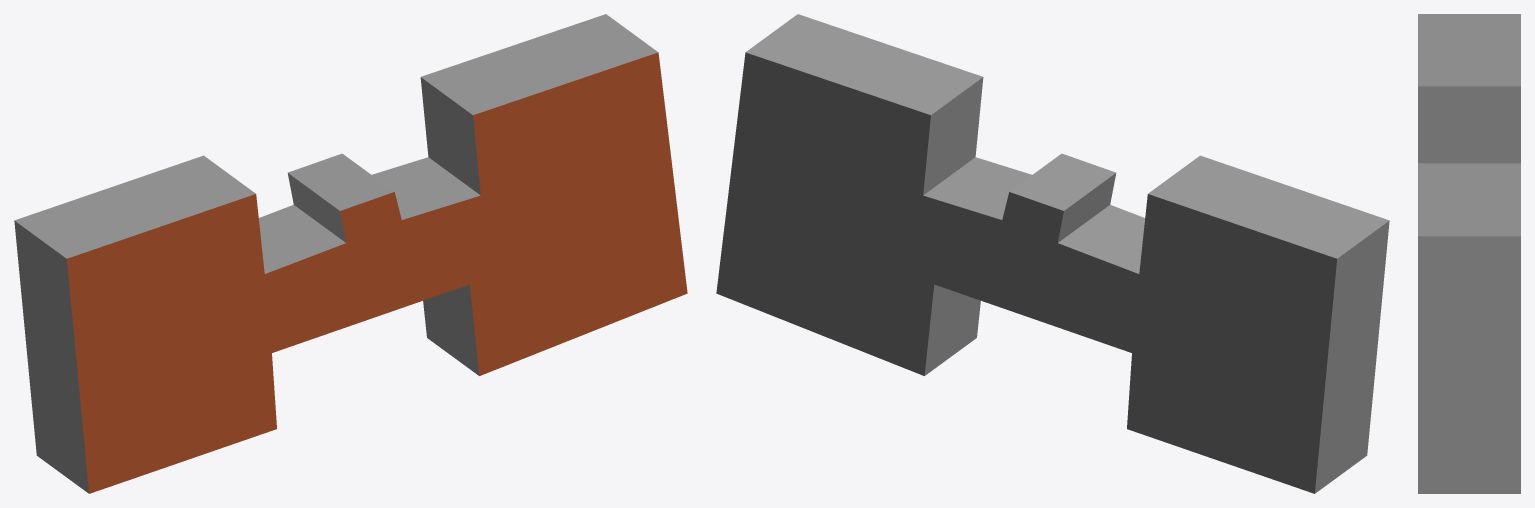
File: construction_5529_assumed_A_Casa_h6m.obj
3 views of the same model, side by side, from view 1: azimuth 30°, elevation 25°; view 2: azimuth 150°, elevation 25°; view 3: azimuth 270°, elevation 25° (orthographic).
Visible parts, largest first — view 1: construction_5529_assumed_A_Casa; view 2: construction_5529_assumed_A_Casa; view 3: construction_5529_assumed_A_Casa.
Boxes of the visible parts, x1,y1,x2,y2 form: construction_5529_assumed_A_Casa: [14, 14, 687, 493]; construction_5529_assumed_A_Casa: [716, 14, 1389, 493]; construction_5529_assumed_A_Casa: [1418, 14, 1520, 493].
Size of the model in its own units: 41.02 by 19.11 by 6.
